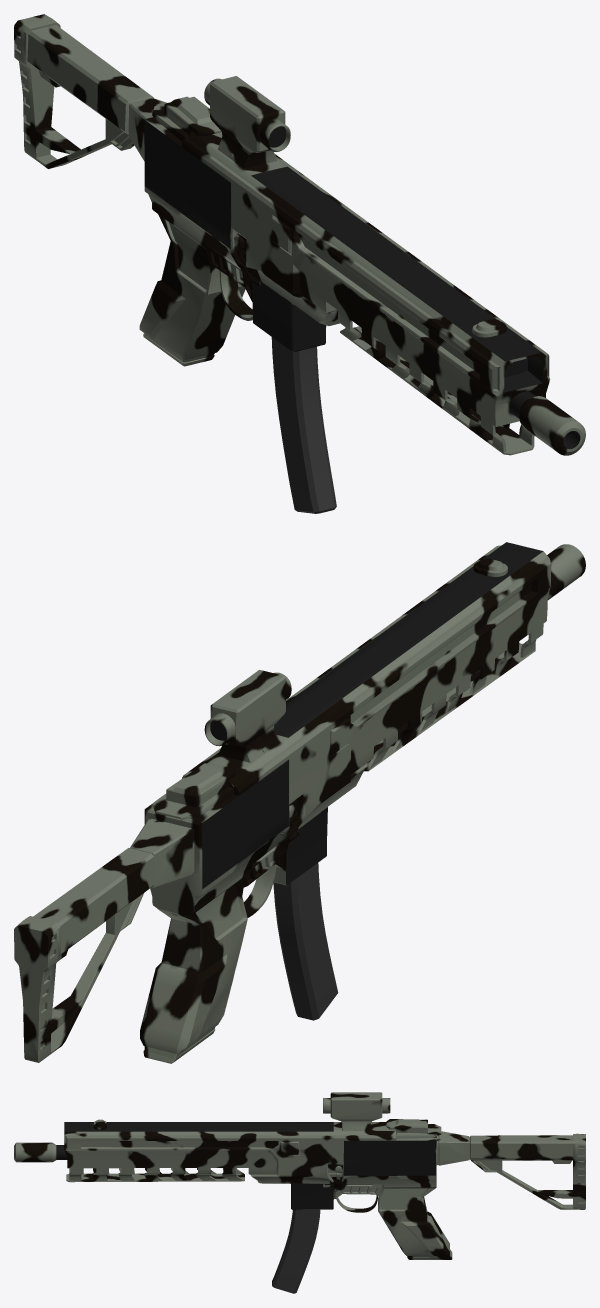
Rendered from Machine gun 1.fbx.
3 renders of one model, top to bottom at view 1: azimuth 30°, elevation 25°; view 2: azimuth 150°, elevation 25°; view 3: azimuth 270°, elevation 25°, orthographic. The views are drawn at different scales.
Visible parts, largest first — view 1: MACHINE GUN 1.001, magazine 1.001; view 2: MACHINE GUN 1.001, magazine 1.001; view 3: MACHINE GUN 1.001, magazine 1.001.
Part boxes in pixels (x1=…): MACHINE GUN 1.001: x1=14, y1=14, x2=585, y2=455; magazine 1.001: x1=271, y1=337, x2=336, y2=513; MACHINE GUN 1.001: x1=14, y1=542, x2=585, y2=1063; magazine 1.001: x1=273, y1=863, x2=338, y2=1020; MACHINE GUN 1.001: x1=14, y1=1092, x2=585, y2=1259; magazine 1.001: x1=272, y1=1209, x2=320, y2=1293.
Size of the model in its own units: 52.56 by 307 by 811.
Materials: 2 (2 with a texture image).
